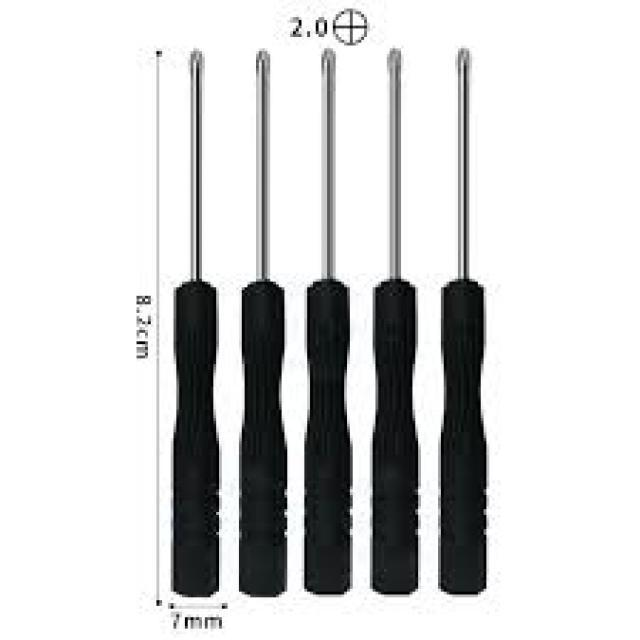screwdriver: (434, 39, 494, 600), (234, 51, 292, 600), (298, 44, 352, 602), (367, 47, 421, 602), (170, 48, 220, 598)
